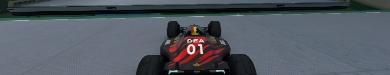Car: (135, 20, 257, 74)
obstacles-Borders: (5, 0, 352, 14)
